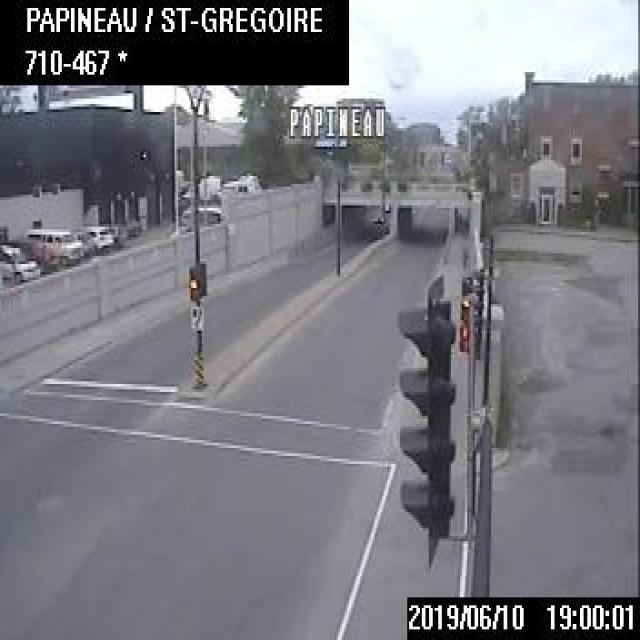vehicle: (24, 225, 81, 262), (0, 243, 40, 280), (82, 222, 114, 252)
